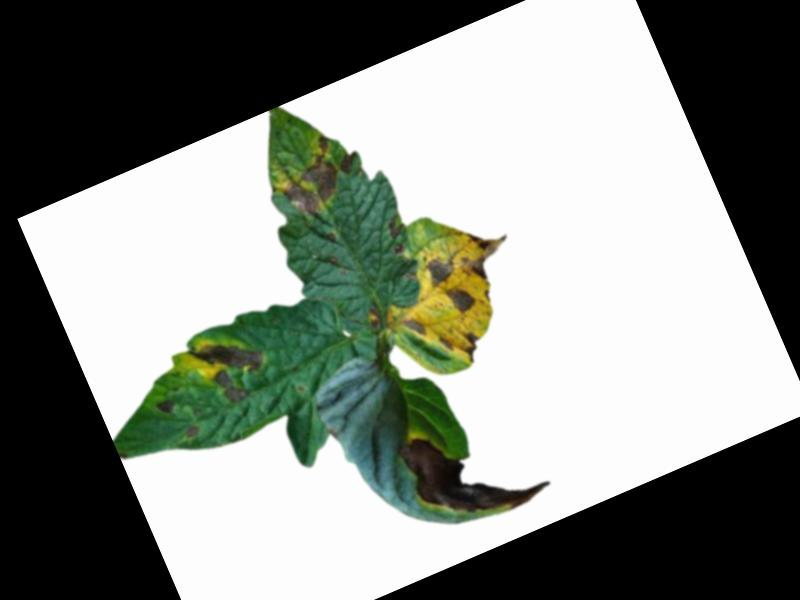Early_blight: (396, 396, 554, 542), (268, 132, 356, 226), (188, 323, 277, 413), (448, 217, 524, 287), (420, 251, 459, 290), (443, 279, 481, 318), (381, 216, 413, 258), (456, 330, 488, 366), (336, 147, 365, 176), (401, 313, 429, 343), (154, 395, 178, 419), (438, 333, 457, 356), (365, 306, 383, 329), (184, 425, 202, 440)
